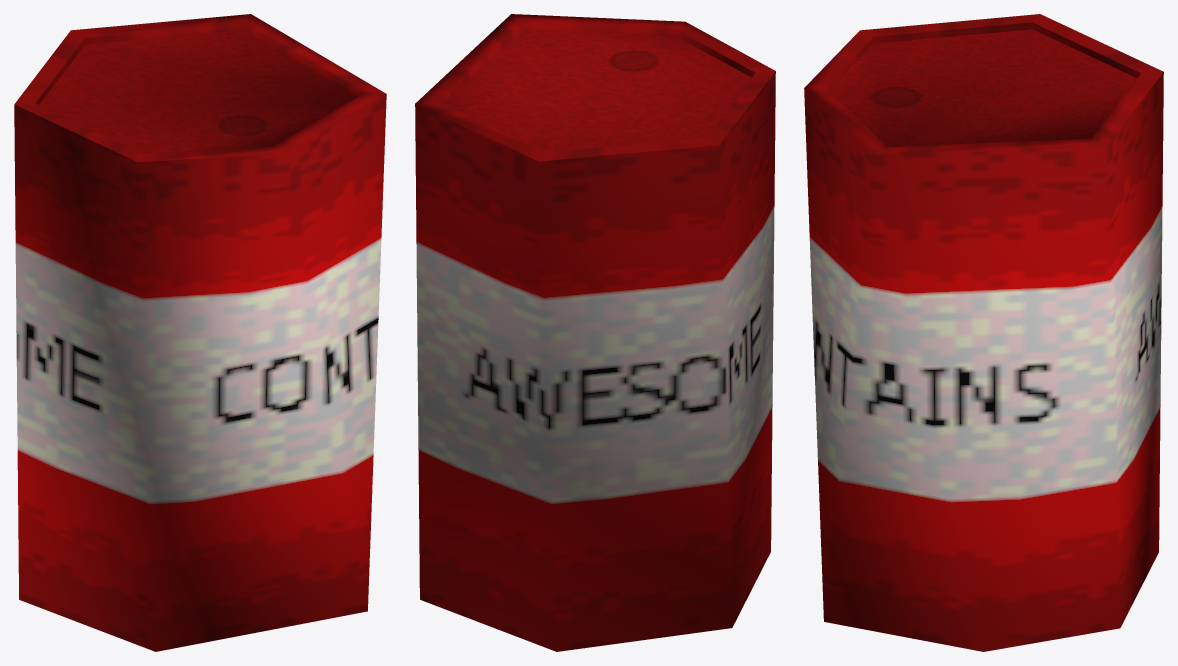
The model's file is barrel.fbx.
3 views of the same model, side by side, from view 1: azimuth 30°, elevation 25°; view 2: azimuth 150°, elevation 25°; view 3: azimuth 270°, elevation 25° (orthographic).
Visible parts, largest first — view 1: Barrel; view 2: Barrel; view 3: Barrel.
Boxes of the visible parts, bbox=[...] form: Barrel: bbox=[14, 14, 386, 651]; Barrel: bbox=[415, 14, 775, 651]; Barrel: bbox=[804, 14, 1163, 651].
Bounding box in the file's own units: 200 × 300 × 200.
2 materials, 2 textured.
